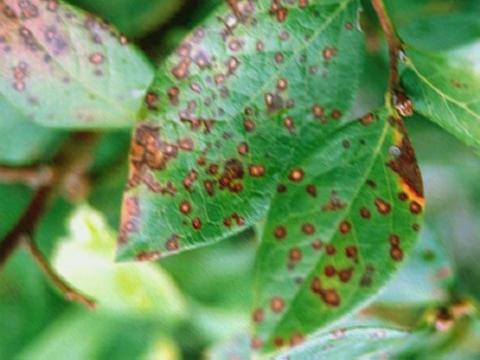Tomato Septoria leaf spot: (110, 3, 368, 269), (241, 80, 421, 355)
